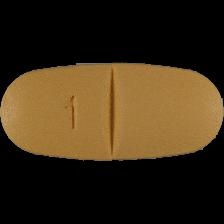0615-6595: (0, 0, 224, 224)
